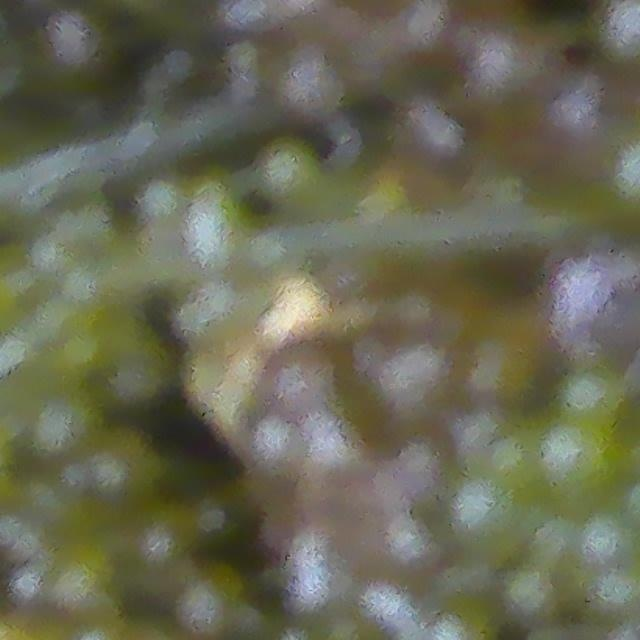SeaGrape: (452, 25, 556, 131), (395, 84, 497, 188), (363, 329, 468, 424), (33, 5, 121, 89), (543, 429, 629, 508), (455, 492, 539, 566), (390, 0, 484, 66), (265, 345, 343, 422), (279, 50, 345, 125), (559, 380, 635, 441)
